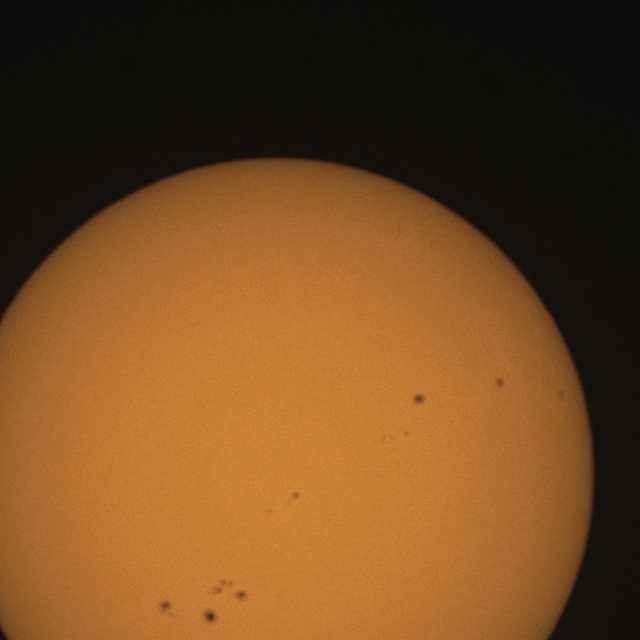sunspot: (211, 578, 247, 603), (202, 608, 219, 625), (158, 600, 174, 618), (287, 490, 301, 506), (411, 393, 426, 407), (234, 589, 248, 603), (495, 377, 506, 389), (401, 430, 410, 439)
